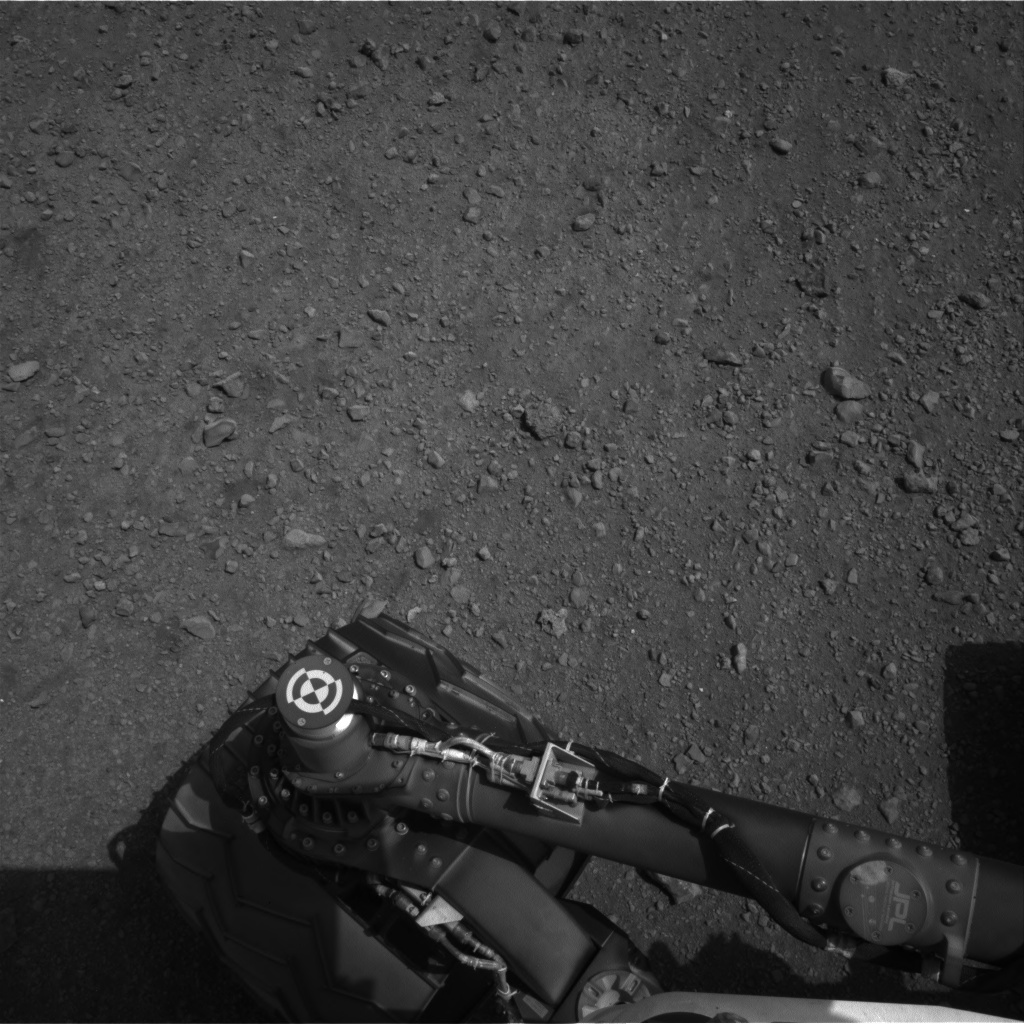soil: (6, 10, 1016, 1006)
